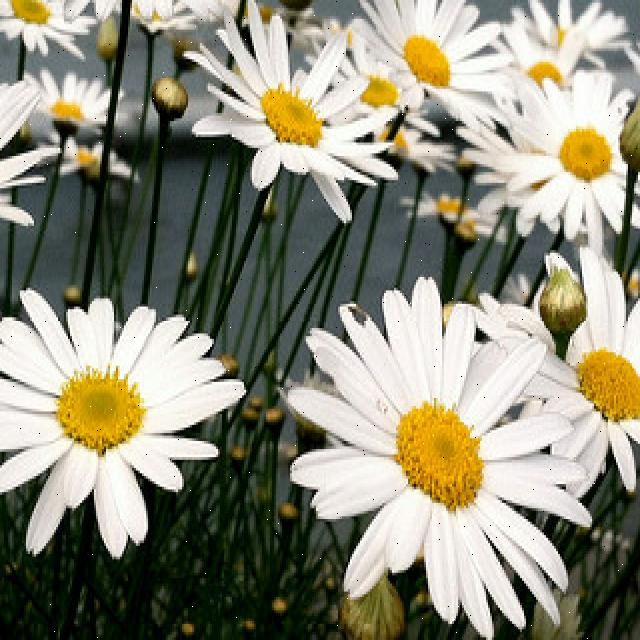Bloomed: (0, 282, 246, 560)
